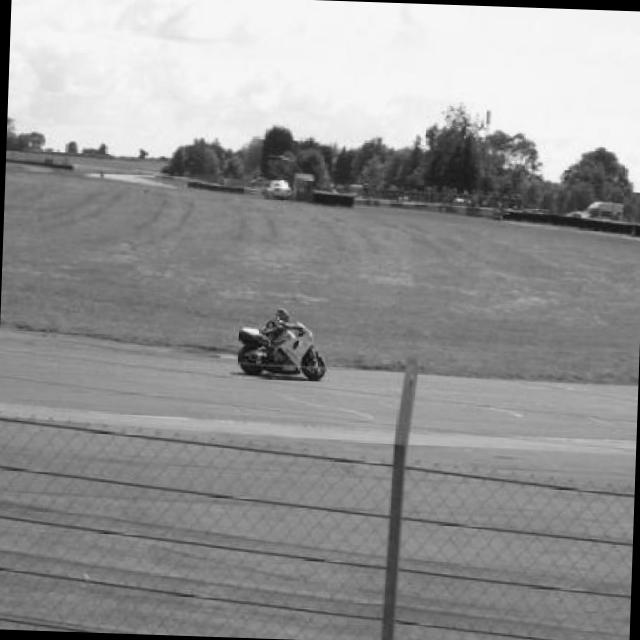Person: (262, 305, 306, 346)
